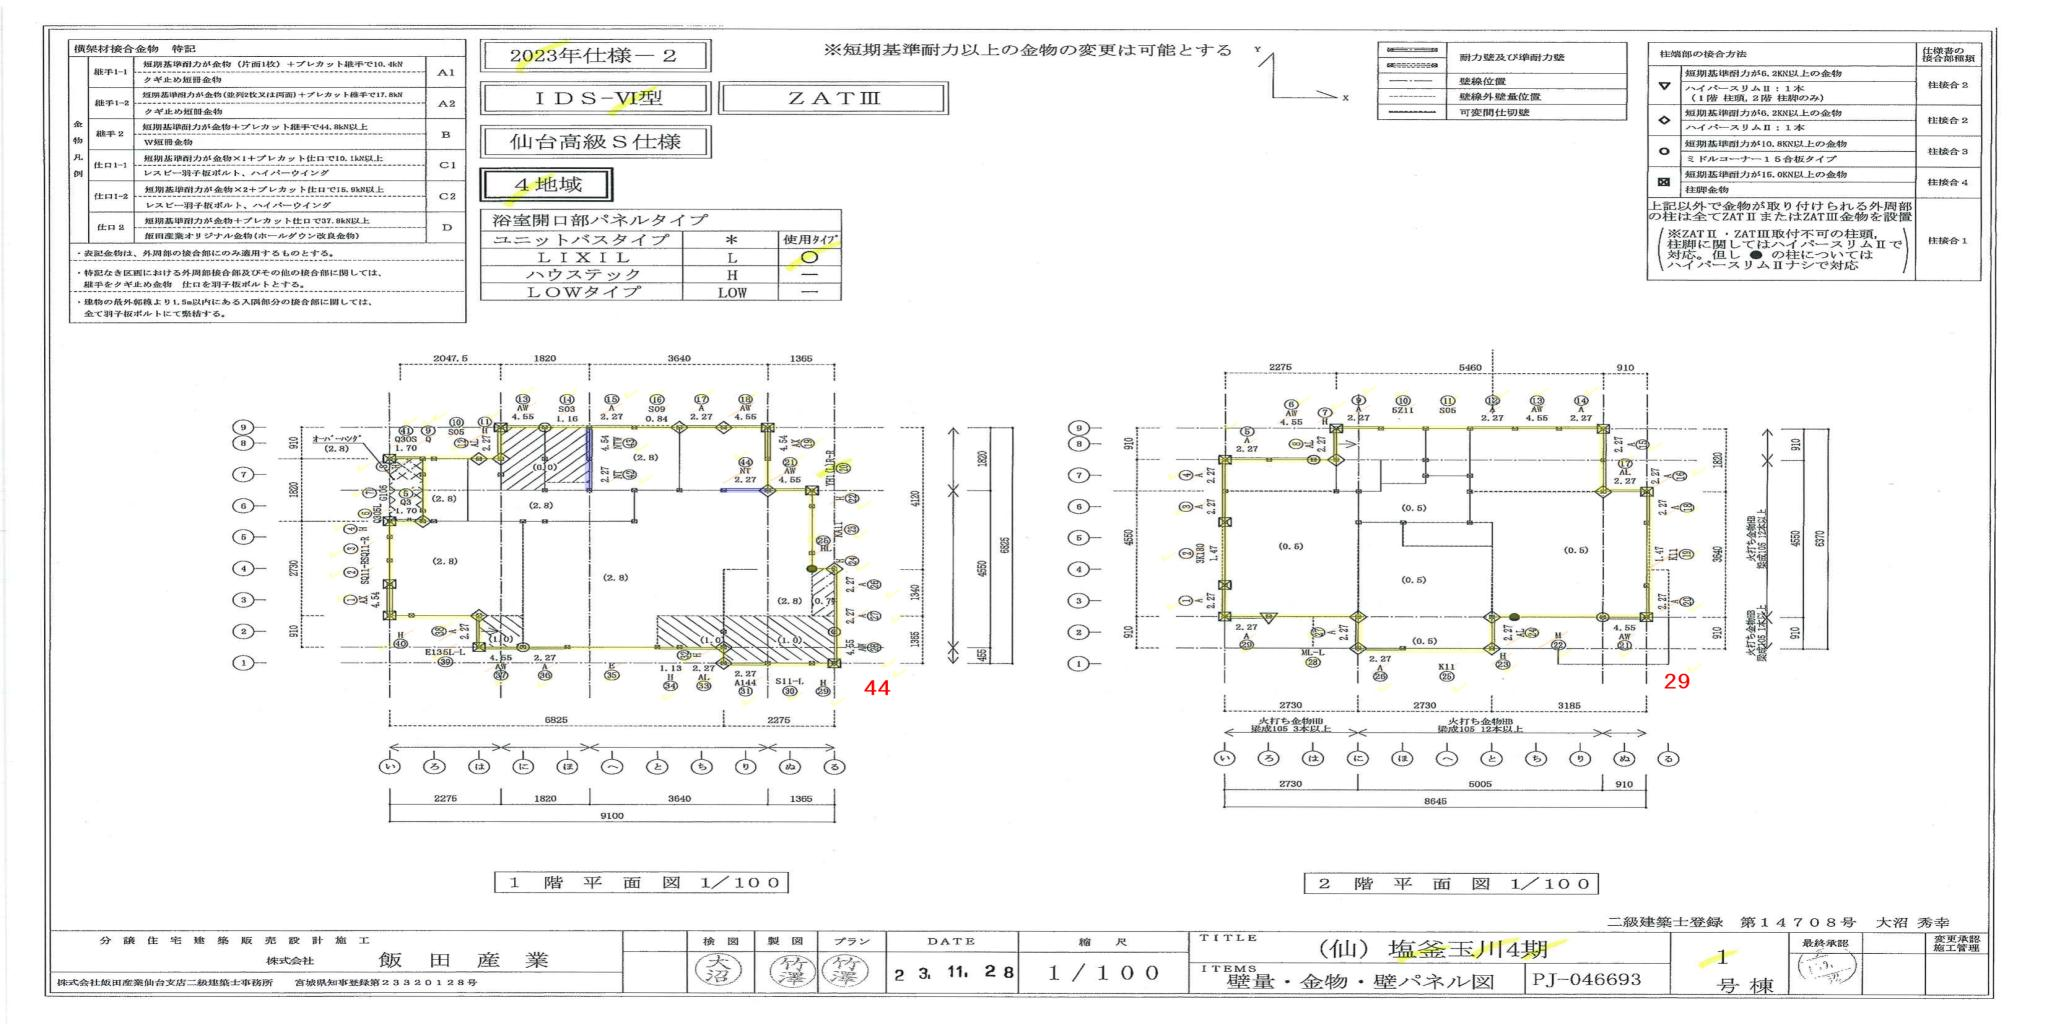CAD: (335, 390, 893, 700), (1174, 392, 1698, 691)
